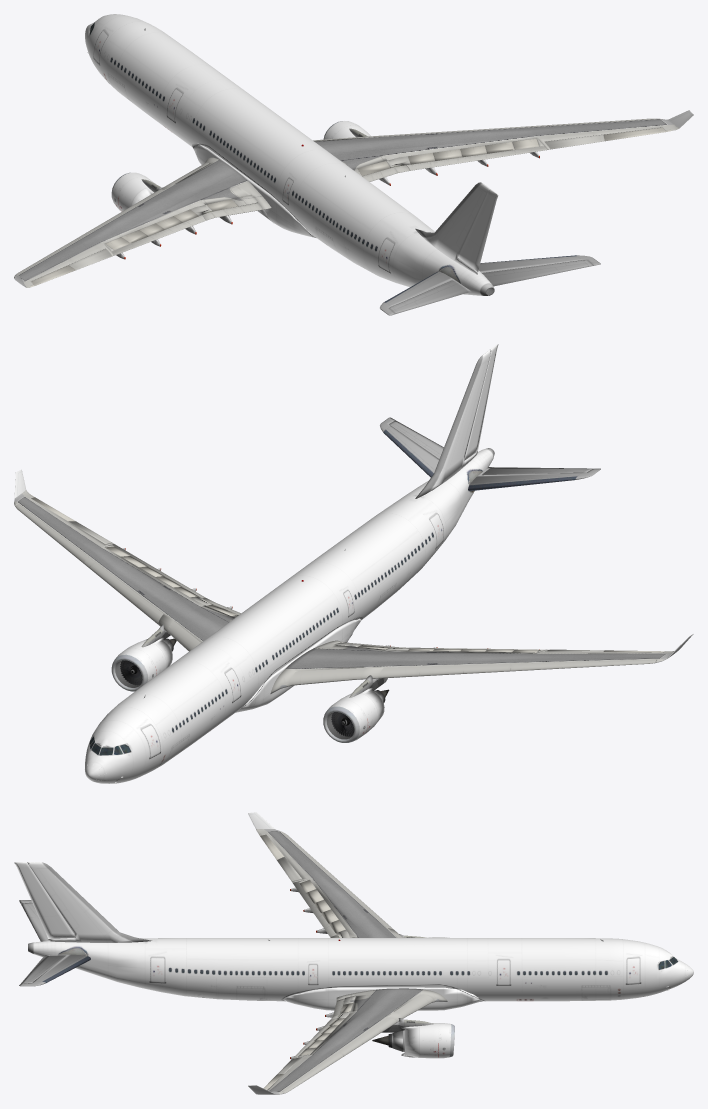
3 renders of one model, top to bottom at view 1: azimuth 30°, elevation 25°; view 2: azimuth 150°, elevation 25°; view 3: azimuth 270°, elevation 25°, orthographic. The views are drawn at different scales.
Parts seen in each view (by area): view 1: fuselage_003, cylinder_003, cylinder, wing_in0, vstab, hstab, cylinder_002, cylinder_001, rudder, bellyfairing, wing_in1, elevator1 (+6 smaller); view 2: fuselage_003, cylinder_003, vstab, cylinder, hstab, wing_in0, cylinder_002, cylinder_001, slat_out0, bellyfairing, wing_in1, slat_out1_001 (+8 smaller); view 3: fuselage_003, vstab, cylinder, bellyfairing, cylinder_003, rudder, wing_in1, cylinder_001, ge_nacelle1, cylinder_002, hstab, slat_out1_001 (+2 smaller).
Part boxes in pixels (box(x1,y1,x2,y2)): fuselage_003: box(85, 14, 494, 295); cylinder_003: box(361, 127, 548, 160); cylinder: box(89, 183, 204, 255); wing_in0: box(174, 157, 271, 209); vstab: box(415, 182, 490, 274); hstab: box(380, 255, 600, 315); cylinder_002: box(525, 118, 679, 149); cylinder_001: box(14, 233, 112, 287); rudder: box(458, 189, 498, 271); bellyfairing: box(192, 143, 315, 237); wing_in1: box(314, 137, 387, 169); elevator1: box(482, 260, 593, 286); fuselage_003: box(85, 448, 494, 783); cylinder_003: box(89, 543, 204, 631); vstab: box(415, 349, 491, 498); cylinder: box(360, 649, 546, 679); hstab: box(380, 417, 600, 491); wing_in0: box(270, 640, 386, 694); cylinder_002: box(14, 490, 112, 556); cylinder_001: box(525, 649, 673, 663); slat_out0: box(378, 663, 524, 678); bellyfairing: box(236, 618, 360, 712); wing_in1: box(174, 605, 234, 642); slat_out1_001: box(84, 557, 163, 624); fuselage_003: box(28, 938, 680, 1001); vstab: box(27, 862, 151, 942); cylinder: box(292, 878, 400, 937); bellyfairing: box(283, 987, 483, 1010); cylinder_003: box(293, 1009, 403, 1058); rudder: box(14, 862, 75, 938); wing_in1: box(336, 988, 447, 1011); cylinder_001: box(256, 829, 332, 882); ge_nacelle1: box(419, 1023, 451, 1058); cylinder_002: box(256, 1054, 332, 1094); hstab: box(19, 900, 90, 986); slat_out1_001: box(333, 1017, 396, 1058).
Size of the model in its own units: 59.91 by 15.52 by 63.05.
Materials: 19 (15 with a texture image).
